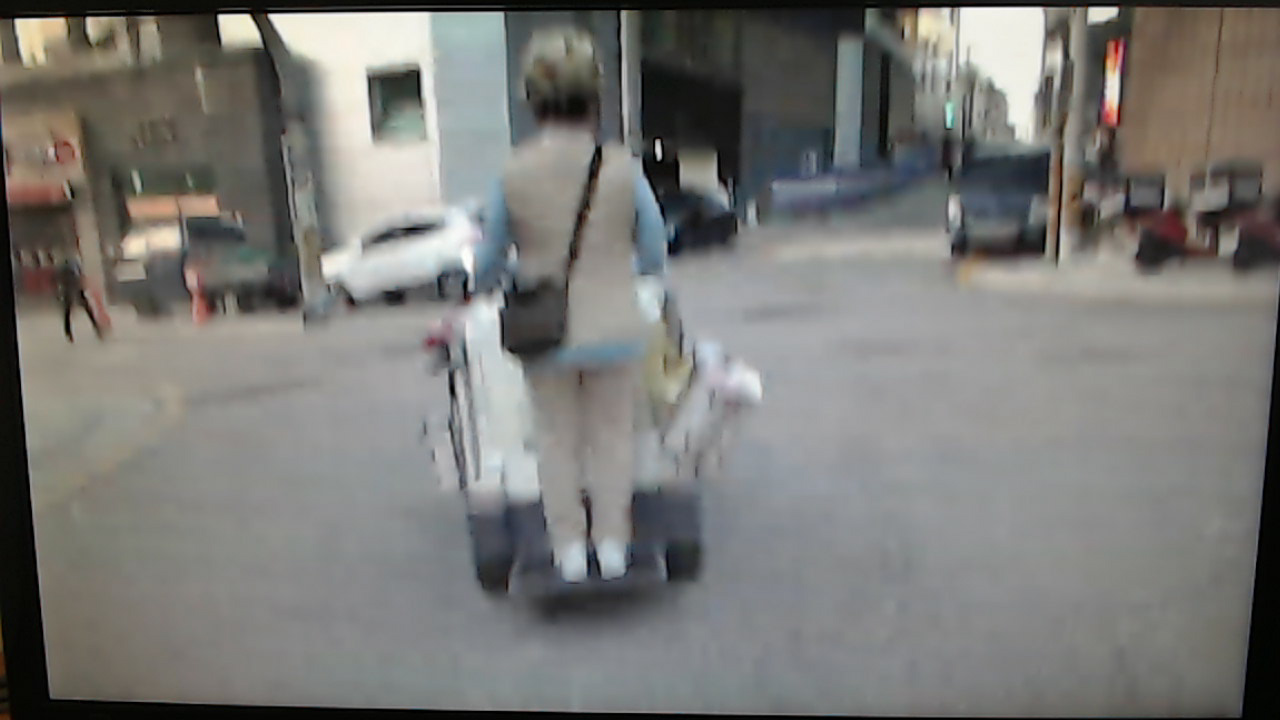Yakurut: (457, 20, 708, 591)
